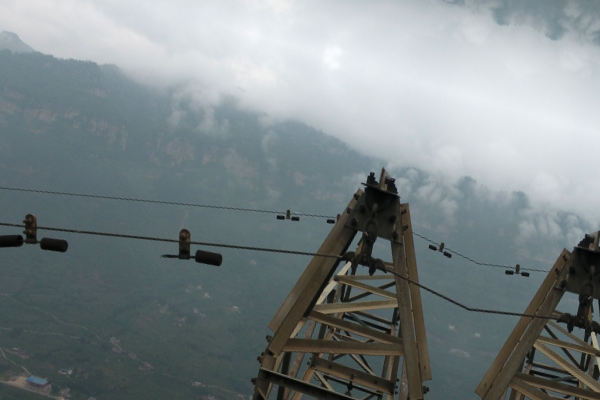damper: (427, 239, 453, 258), (503, 263, 532, 278), (274, 207, 301, 221)
damper_defect: (156, 227, 223, 268)
